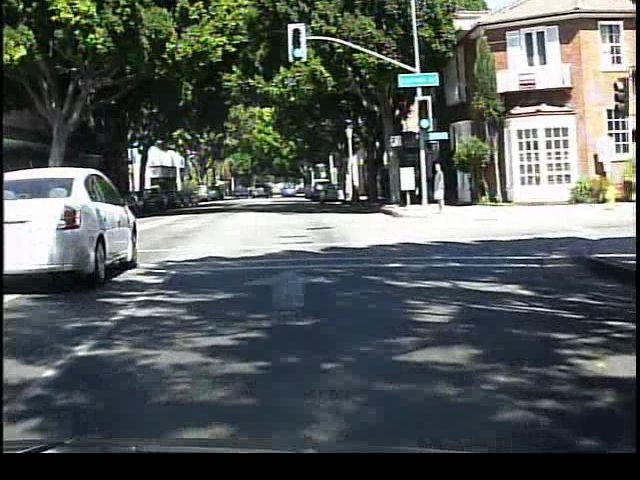person: (429, 158, 450, 217)
